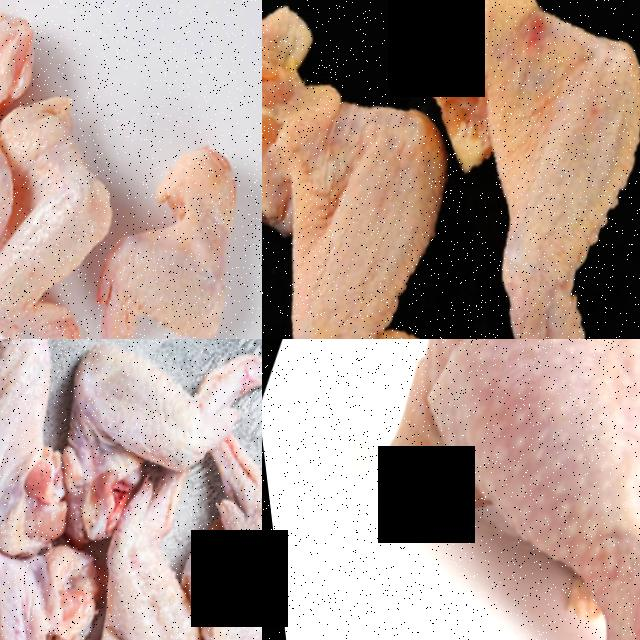chicken thigh: (294, 339, 640, 640)
chicken wing: (337, 0, 640, 339), (262, 20, 553, 339), (4, 339, 262, 570), (20, 111, 262, 339), (0, 449, 262, 640), (0, 91, 176, 339), (0, 339, 136, 572), (0, 0, 92, 339), (154, 379, 262, 640)
